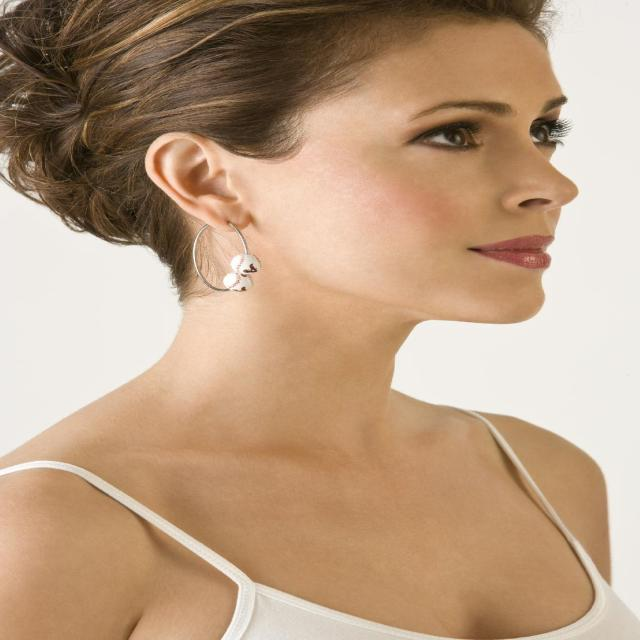no-earmuff: (132, 120, 306, 250)
